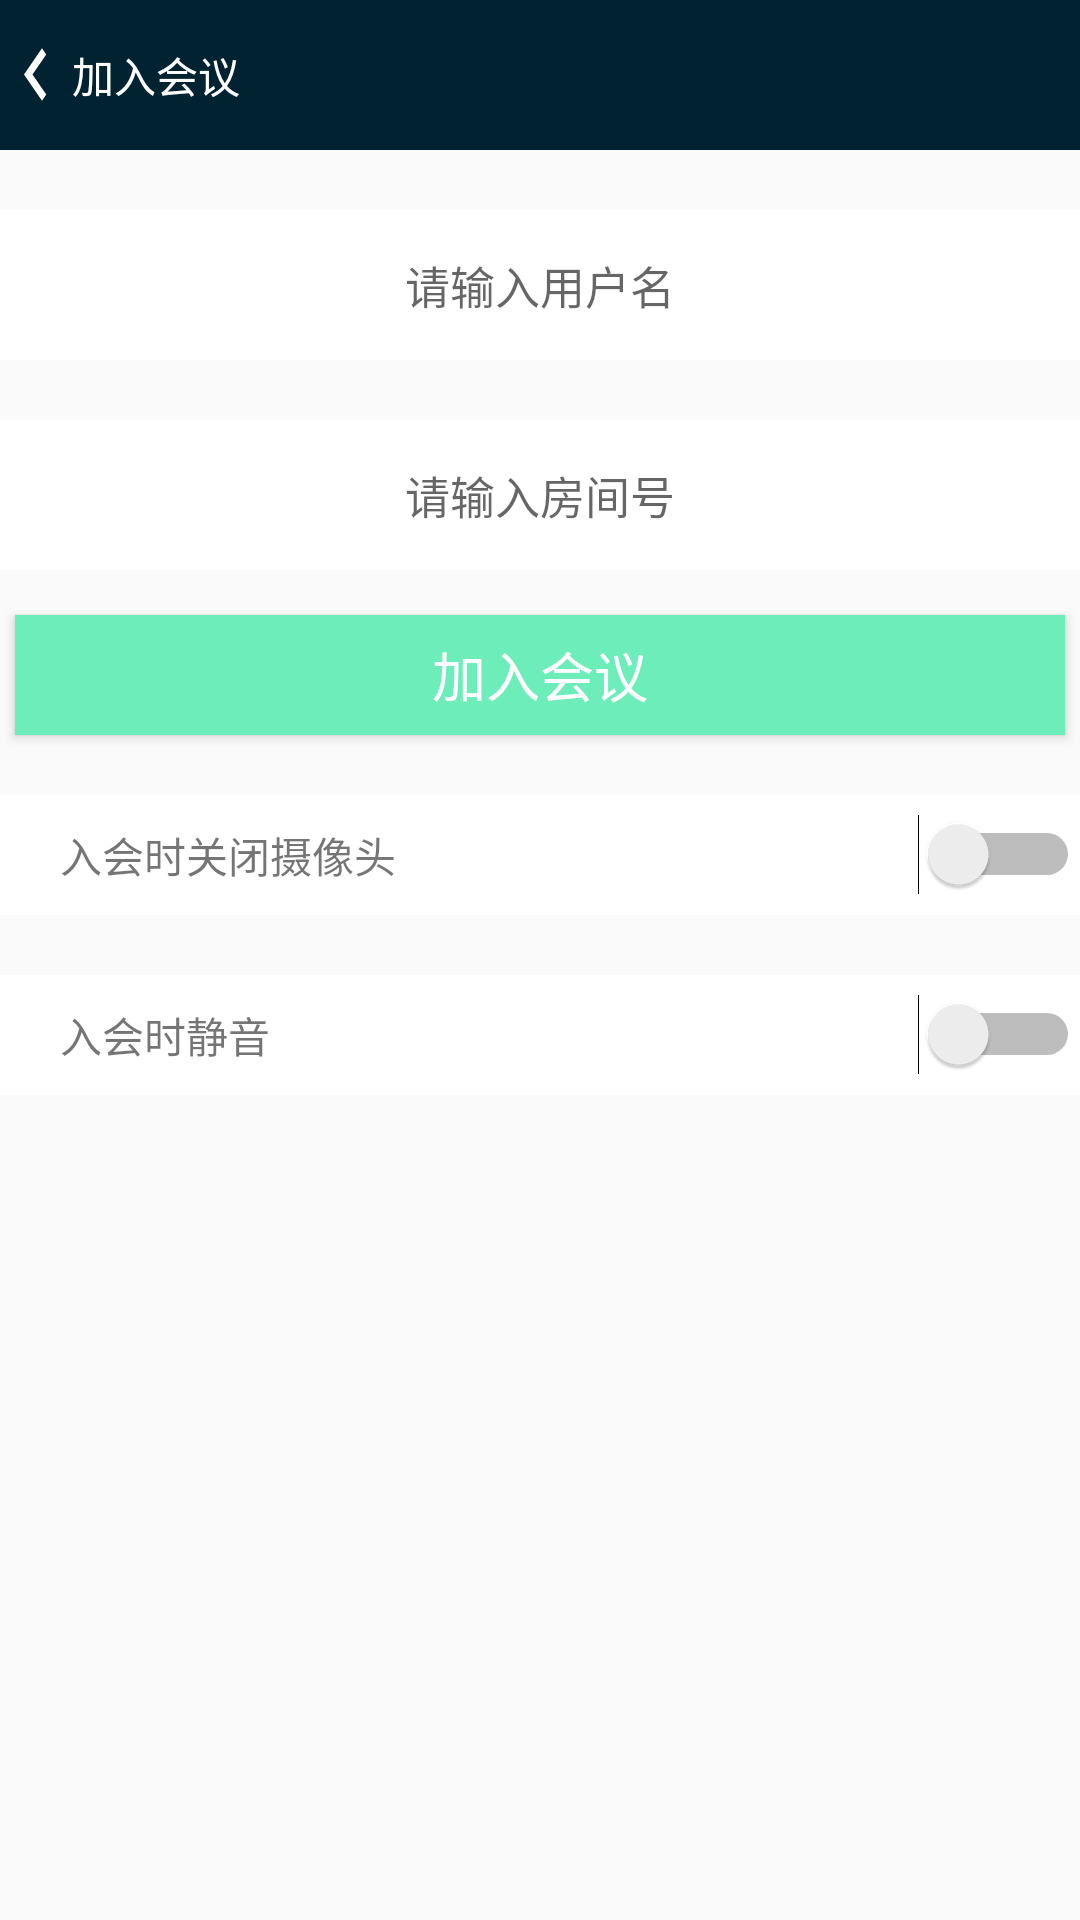

Icons on this 1080w x 1920h Android screen, each with the point to tap as (x=x, y=y):
chevron left: (x=35, y=74)
